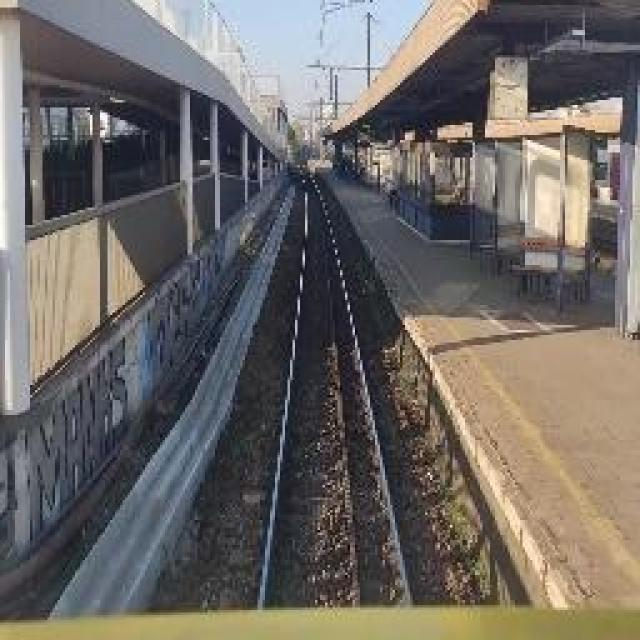rail: (223, 162, 464, 609)
